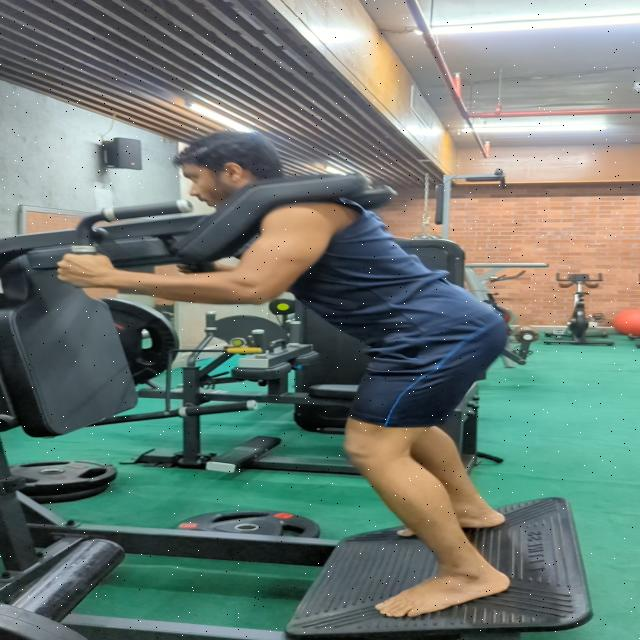Normal_SquatsWithBarbell: (0, 113, 536, 639)
